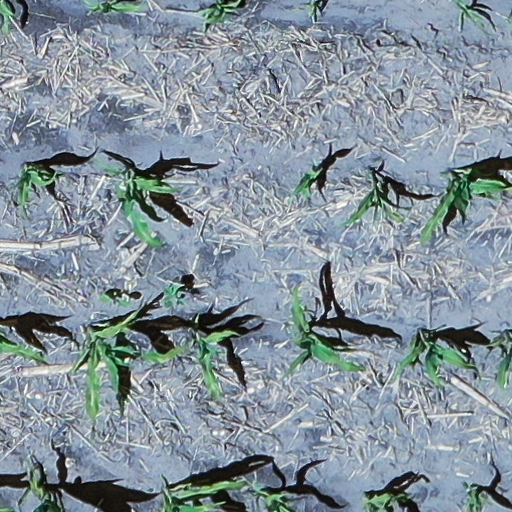planta: (70, 298, 146, 420), (95, 159, 179, 248), (137, 330, 240, 399), (285, 288, 365, 376), (421, 168, 507, 242), (393, 337, 475, 387), (342, 176, 403, 225), (18, 166, 58, 220)
